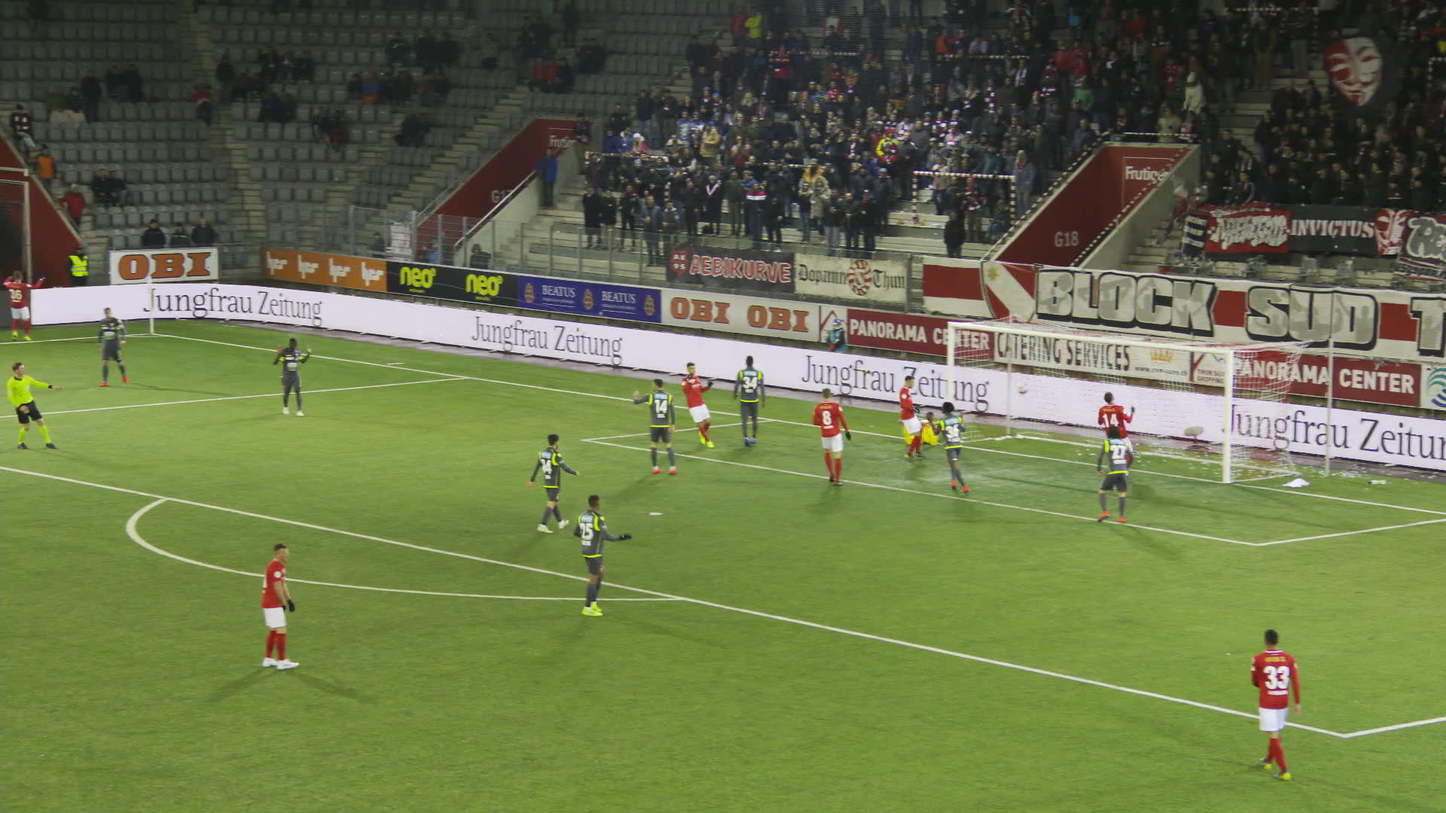ball: (1017, 382, 1030, 391)
goalkeeper: (895, 411, 944, 453)
player: (1250, 629, 1304, 781), (575, 495, 631, 614), (261, 544, 304, 667), (633, 377, 678, 473), (538, 434, 578, 534), (1094, 427, 1133, 521), (931, 401, 972, 490), (816, 391, 853, 488), (1098, 390, 1141, 473), (684, 361, 721, 449), (2, 271, 45, 341), (273, 338, 312, 415), (737, 356, 768, 444), (105, 306, 136, 385), (899, 376, 926, 458)
referee: (7, 359, 61, 449)
